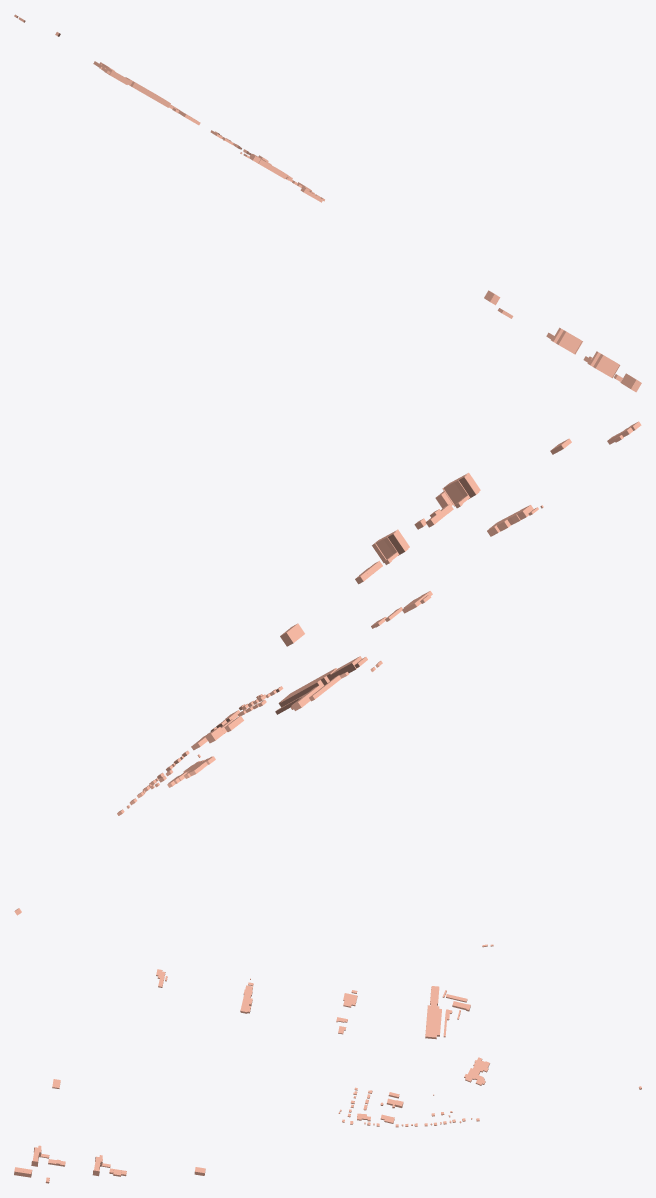
3 renders of one model, top to bottom at view 1: azimuth 30°, elevation 25°; view 2: azimuth 150°, elevation 25°; view 3: azimuth 270°, elevation 25°, orthographic. The views are drawn at different scales.
Size of the model in its own units: 437 by 294 by 1177.
